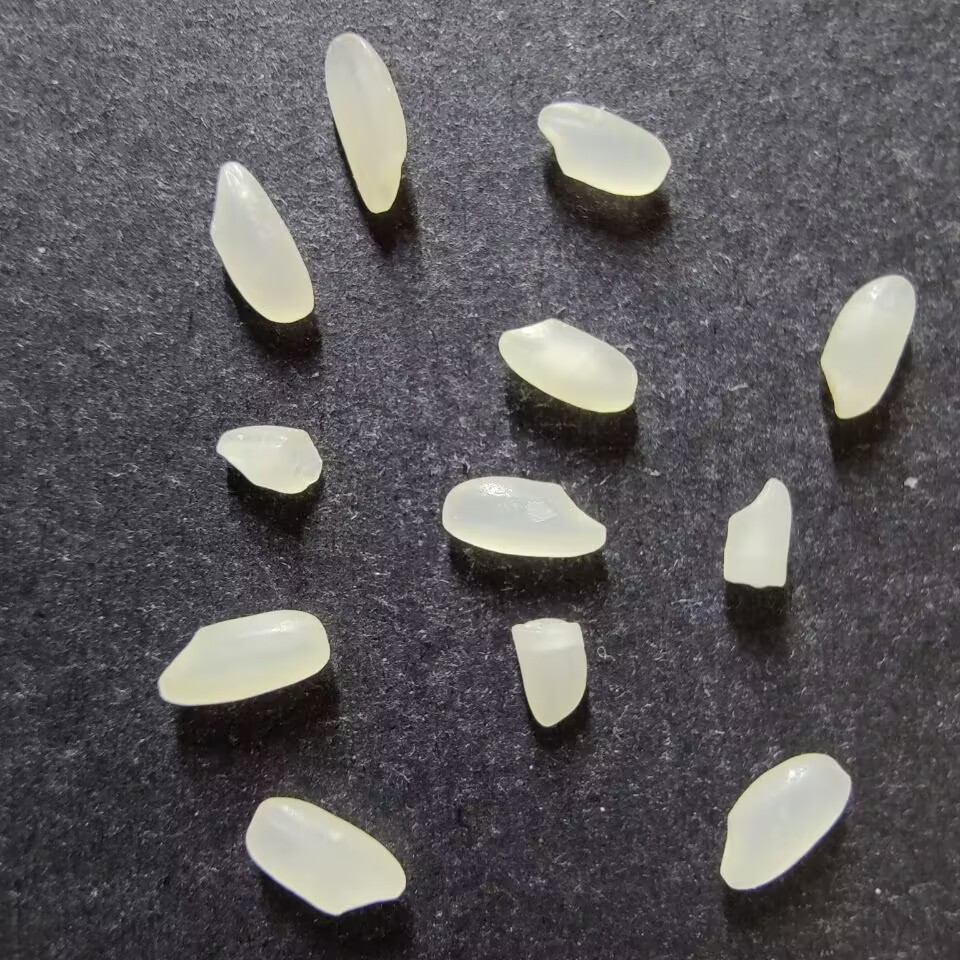broken: (510, 617, 588, 727), (722, 477, 792, 588), (215, 424, 323, 494)
rice: (244, 796, 406, 917), (718, 751, 852, 890), (157, 608, 331, 706), (209, 161, 314, 323), (323, 32, 408, 214), (819, 274, 916, 420), (440, 475, 607, 558), (497, 316, 638, 413), (536, 100, 670, 196)
